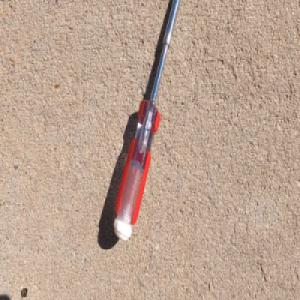Screwdriver: (112, 0, 181, 242)
